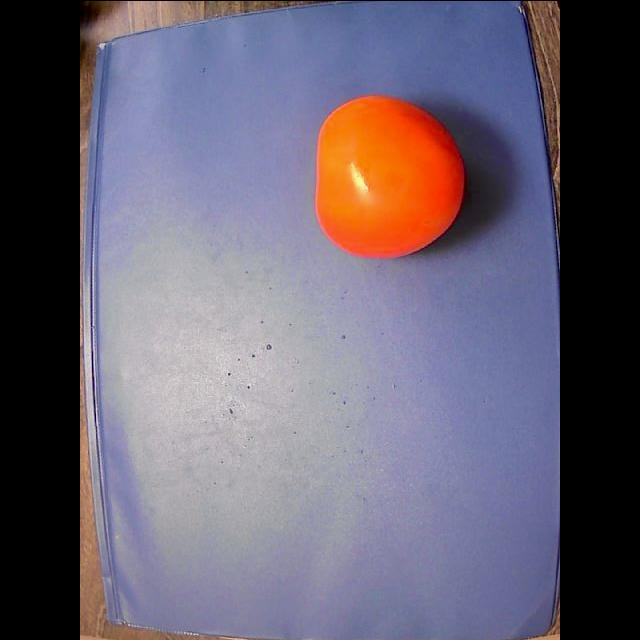tomate: (315, 95, 464, 257)
